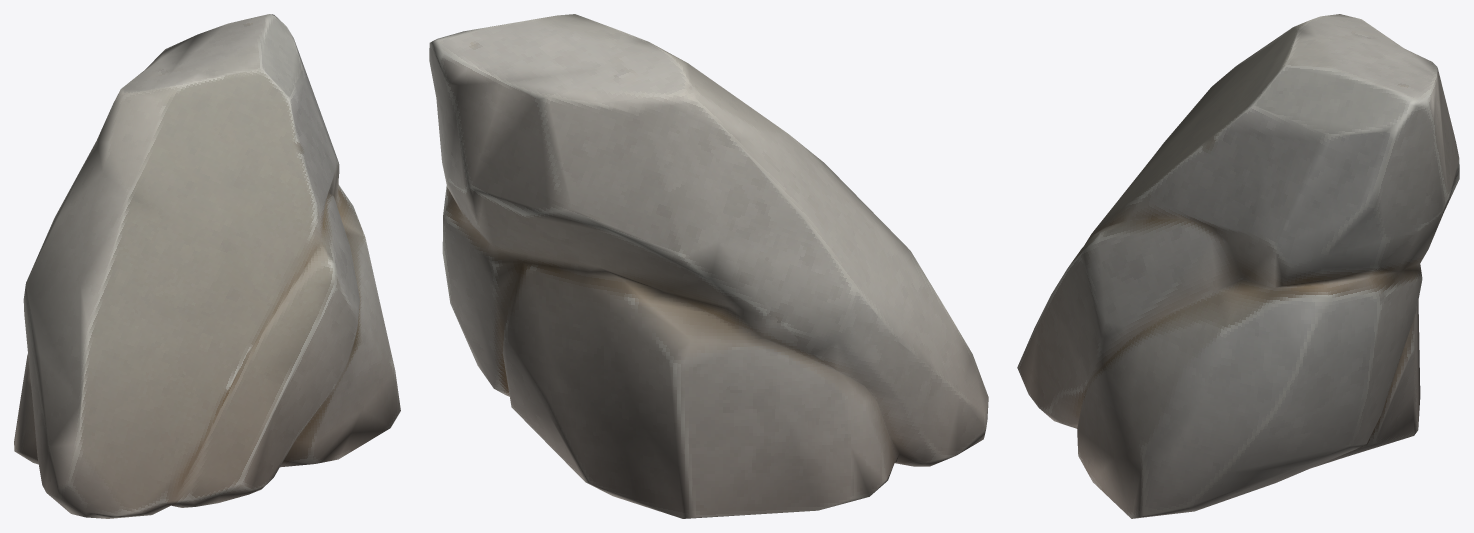
File: pedra_04.glb
The picture shows the model from 3 angles, left to right: view 1: azimuth 30°, elevation 25°; view 2: azimuth 150°, elevation 25°; view 3: azimuth 270°, elevation 25°; orthographic projection. The views are drawn at different scales.
Parts seen in each view (by area): view 1: SM_Rocks_04; view 2: SM_Rocks_04; view 3: SM_Rocks_04.
Part boxes in pixels (x1,y1,x2,y2): SM_Rocks_04: (14,14,400,518); SM_Rocks_04: (429,14,988,518); SM_Rocks_04: (1017,14,1459,518).
Size of the model in its own units: 1.9 by 1.7 by 1.59.
1 material, 1 textured.
